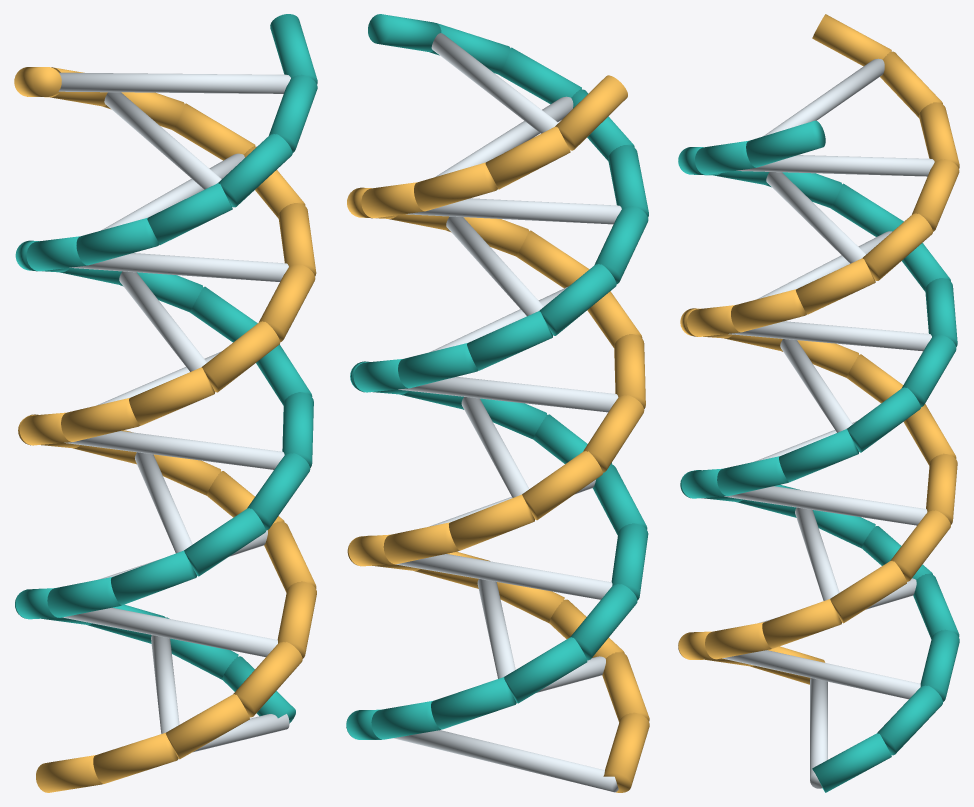
Rendered from dna-helix-quality.glb.
The picture shows the model from 3 angles, left to right: view 1: azimuth 30°, elevation 25°; view 2: azimuth 150°, elevation 25°; view 3: azimuth 270°, elevation 25°; orthographic projection. The views are drawn at different scales.
Parts seen in each view (by area): view 1: Schematic base pair; view 2: Schematic base pair; view 3: Schematic base pair.
Boxes of the visible parts, x1,y1,x2,y2 form: Schematic base pair: [14, 14, 317, 792]; Schematic base pair: [346, 14, 649, 792]; Schematic base pair: [678, 14, 959, 792].
Size of the model in its own units: 1.11 by 2.9 by 1.11.
